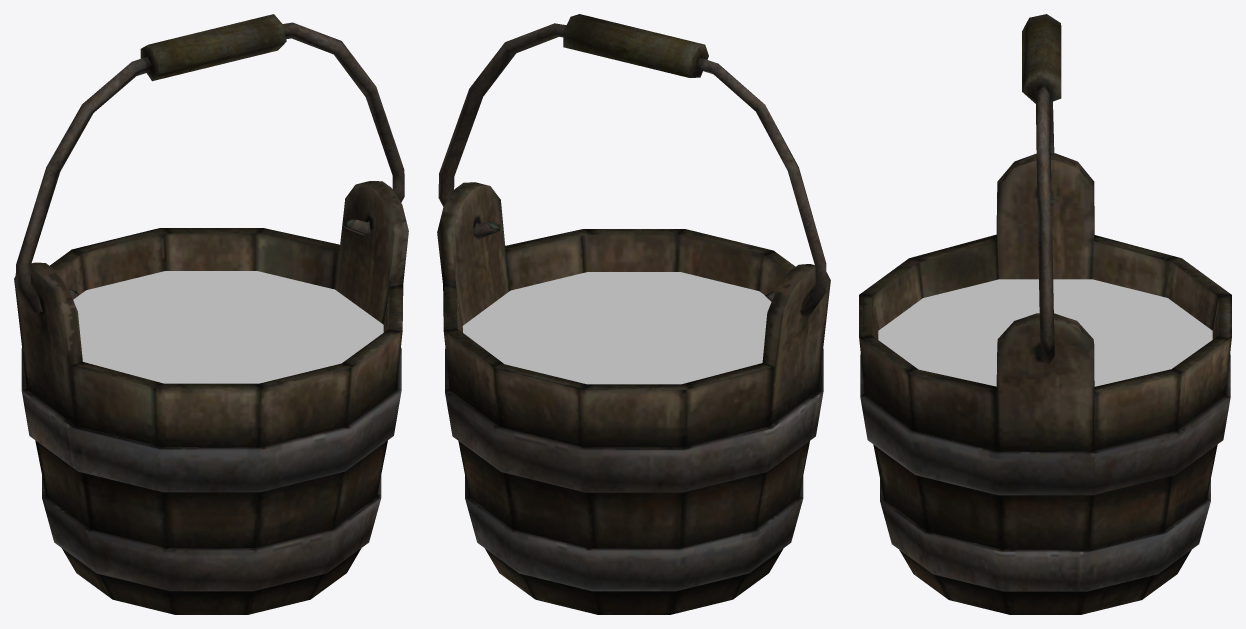
Rendered from wooden_bucket_filled.dae.
The picture shows the model from 3 angles, left to right: view 1: azimuth 30°, elevation 25°; view 2: azimuth 150°, elevation 25°; view 3: azimuth 270°, elevation 25°; orthographic projection. The views are drawn at different scales.
Parts seen in each view (by area): view 1: bucket, pCylinder1, handle; view 2: bucket, pCylinder1, handle; view 3: bucket, pCylinder1, handle.
Part boxes in pixels (bbox=[...]): bucket: bbox=[14, 181, 408, 614]; pCylinder1: bbox=[73, 271, 383, 383]; handle: bbox=[15, 14, 404, 313]; bucket: bbox=[437, 182, 830, 614]; pCylinder1: bbox=[462, 272, 771, 384]; handle: bbox=[438, 14, 826, 317]; bucket: bbox=[859, 153, 1231, 614]; pCylinder1: bbox=[878, 279, 1212, 386]; handle: bbox=[1022, 14, 1061, 364].
Bounding box in the file's own units: 0.4793 × 0.4077 × 0.6215.
